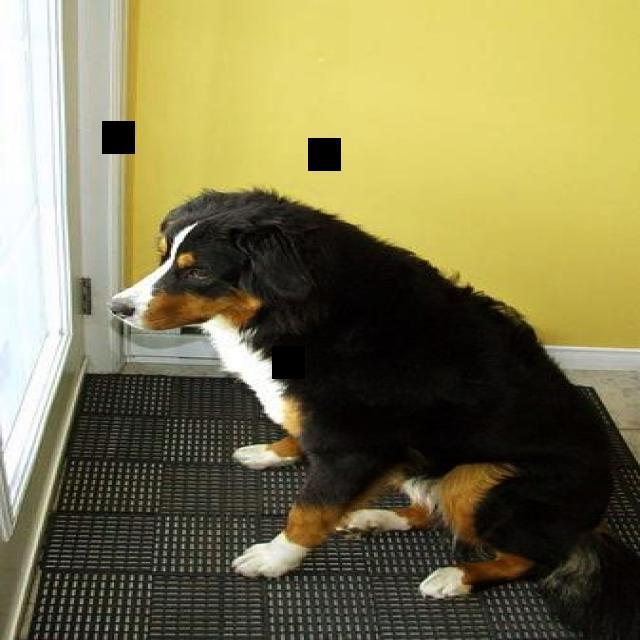adult_dog: (109, 186, 640, 633)
